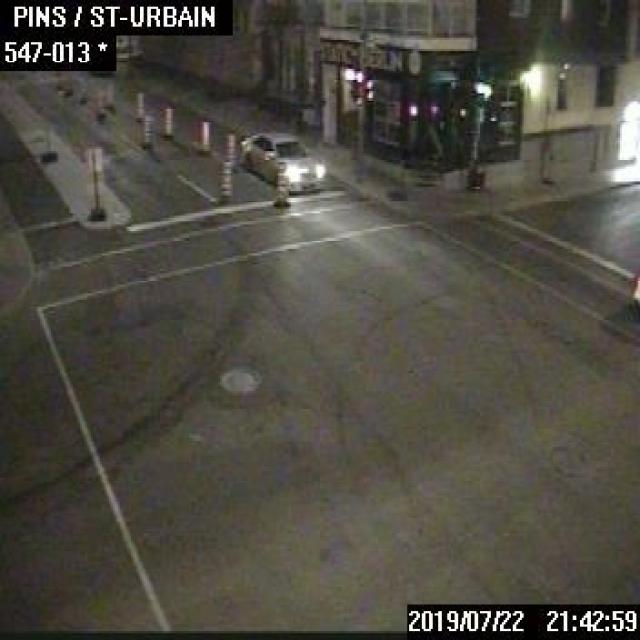construction: (217, 158, 234, 204), (273, 164, 289, 204), (223, 130, 236, 170), (159, 102, 173, 136), (139, 112, 152, 147), (198, 115, 209, 154), (133, 90, 143, 122), (102, 78, 112, 108), (94, 86, 104, 116)
vehicle: (238, 129, 326, 191), (630, 266, 638, 316)
